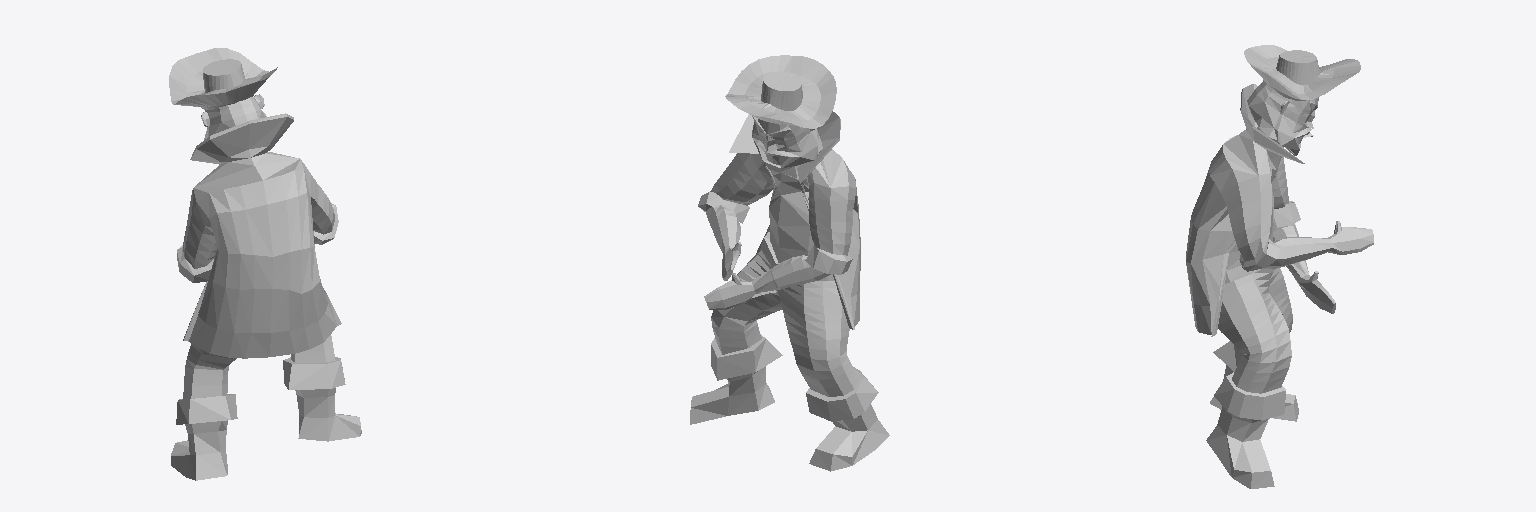
Rendered from pirata_000306.obj.
3 renders of one model, left to right at view 1: azimuth 30°, elevation 25°; view 2: azimuth 150°, elevation 25°; view 3: azimuth 270°, elevation 25°, orthographic.
Visible parts, largest first — view 1: Pirata_PirataH; view 2: Pirata_PirataH; view 3: Pirata_PirataH.
Boxes of the visible parts, x1,y1,x2,y2 form: Pirata_PirataH: [169, 48, 361, 480]; Pirata_PirataH: [690, 55, 889, 471]; Pirata_PirataH: [1186, 45, 1373, 488].
Size of the model in its own units: 4.51 by 9.02 by 4.04.